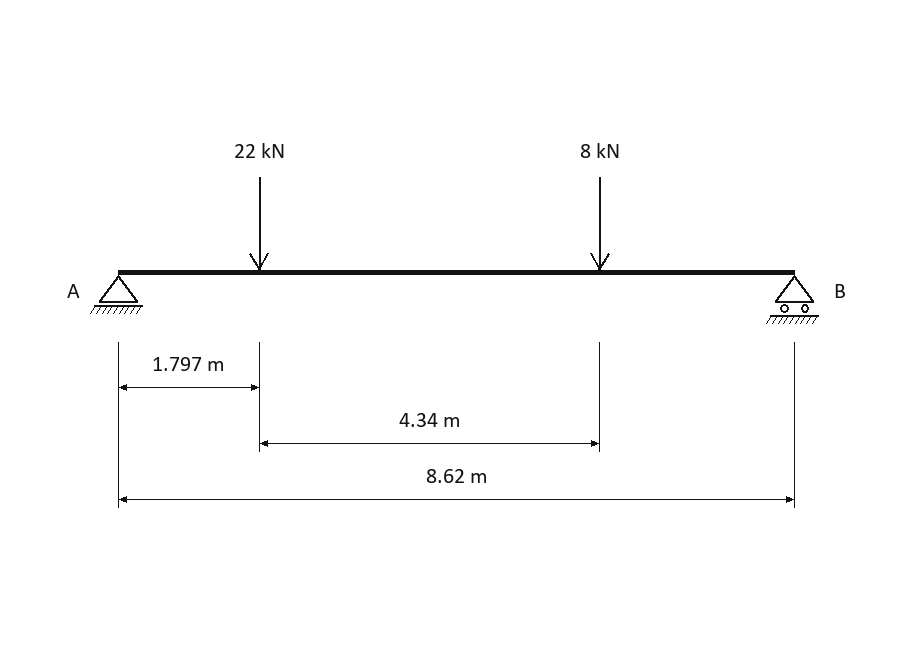pin_support: (90, 275, 143, 314)
point_load: (249, 177, 269, 271), (590, 177, 610, 271)
roller_support: (766, 275, 819, 324)
